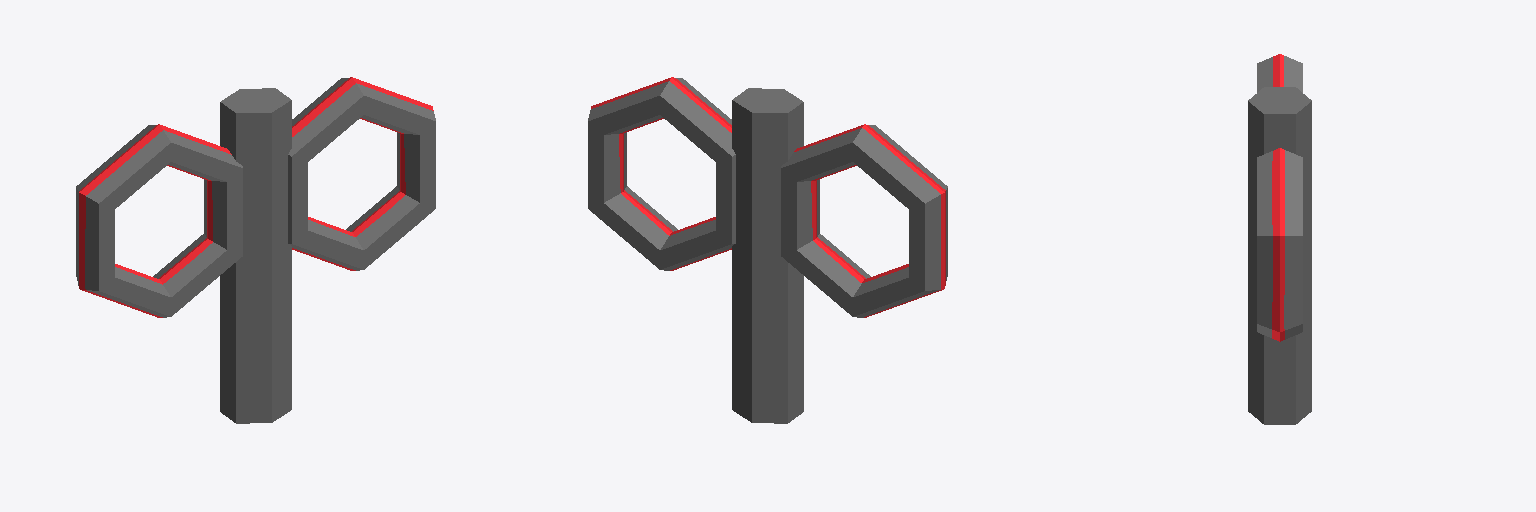
3 views of the same model, side by side, from view 1: azimuth 30°, elevation 25°; view 2: azimuth 150°, elevation 25°; view 3: azimuth 270°, elevation 25° (orthographic).
Parts seen in each view (by area): view 1: トーラス.002; view 2: トーラス.002; view 3: トーラス.002.
Part boxes in pixels (x1,y1,x2,y2): トーラス.002: (76, 77, 435, 423); トーラス.002: (588, 77, 947, 423); トーラス.002: (1248, 54, 1311, 424).
Bounding box in the file's own units: 1 × 0.8394 × 0.1574.
Materials: 1 (1 with a texture image).